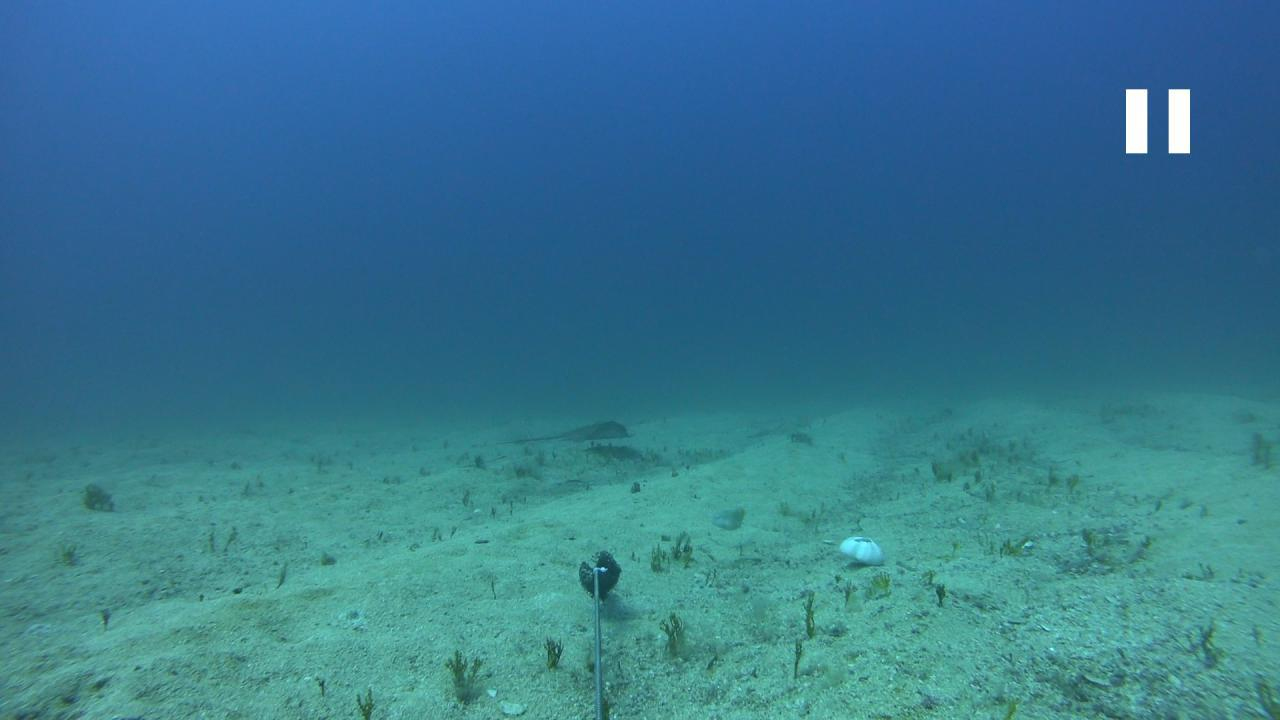dasyatis: (512, 420, 639, 444)
raor: (710, 503, 750, 532)
